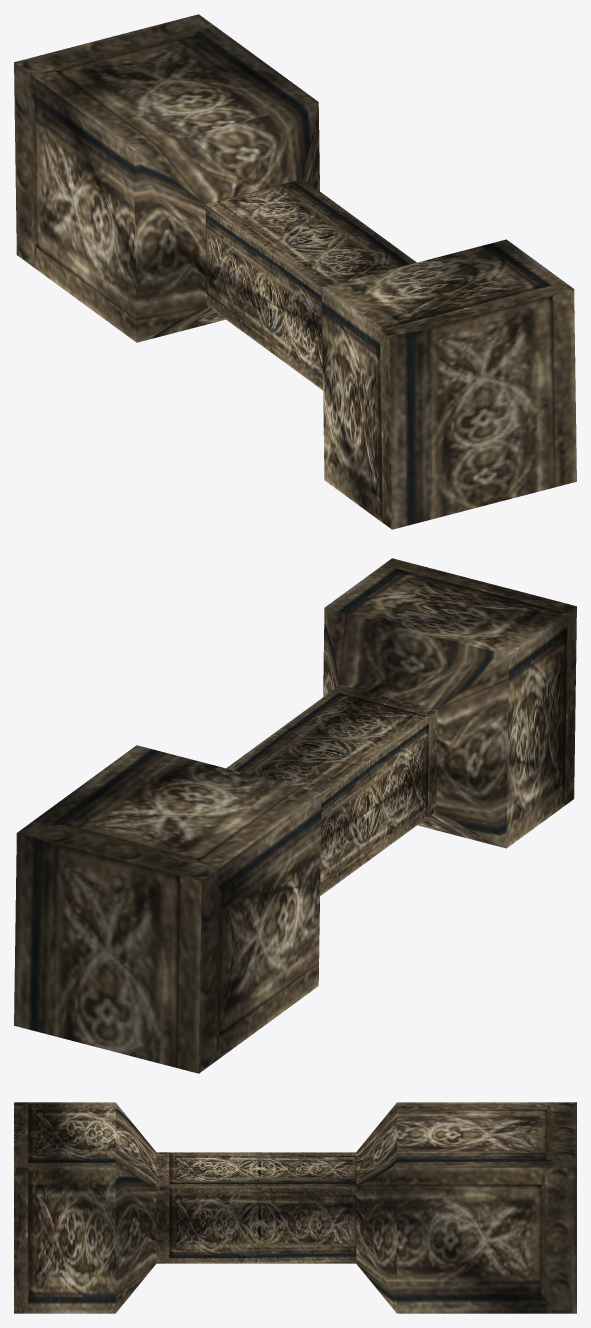
The model's file is column_13.obj.
The picture shows the model from 3 angles, top to bottom: view 1: azimuth 30°, elevation 25°; view 2: azimuth 150°, elevation 25°; view 3: azimuth 270°, elevation 25°; orthographic projection. The views are drawn at different scales.
Parts seen in each view (by area): view 1: (null); view 2: (null); view 3: (null).
Boxes of the visible parts, x1,y1,x2,y2 form: (null): (14,14,576,529); (null): (14,558,576,1073); (null): (14,1102,576,1313).
Size of the model in its own units: 0.8002 by 0.8002 by 2.77.
